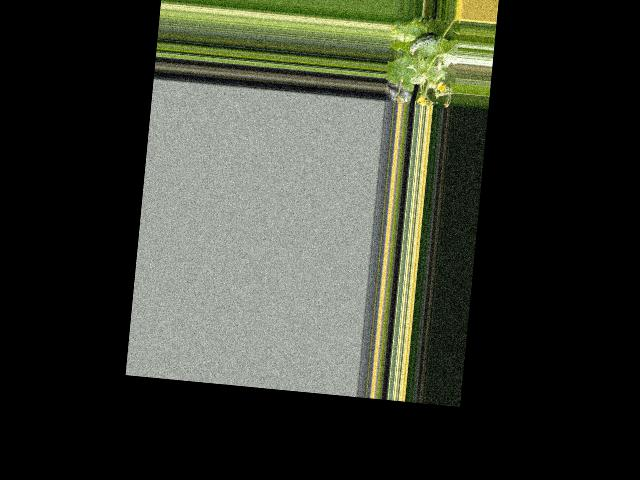cucumber: (408, 30, 439, 57)
